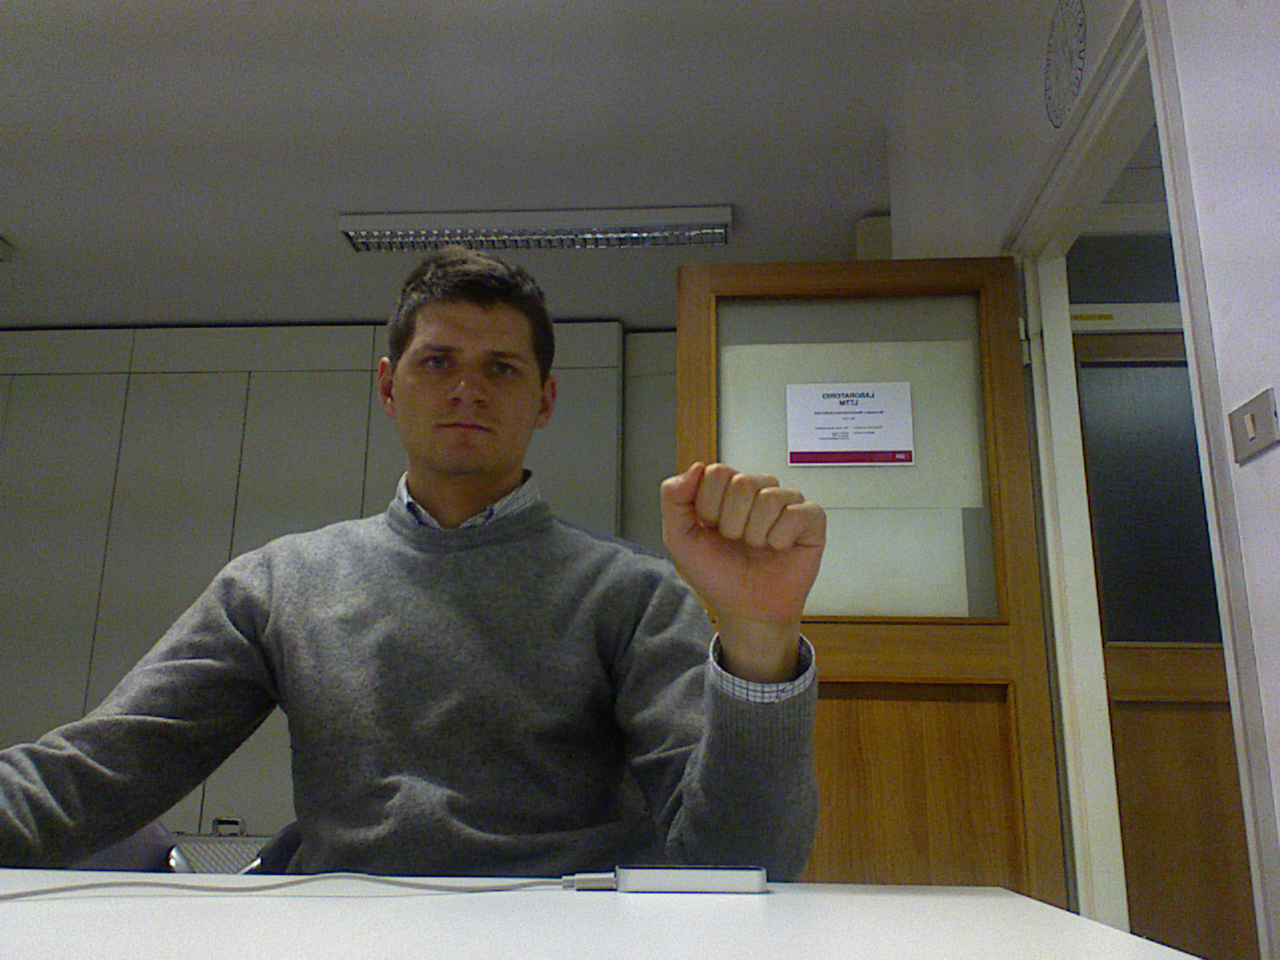hand: (643, 455, 845, 677)
